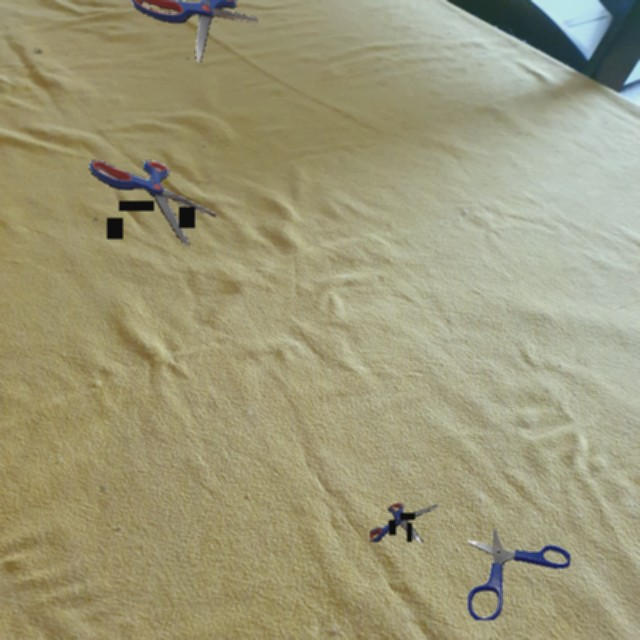scissors: (89, 160, 216, 245), (468, 528, 570, 620), (130, 0, 258, 62), (370, 503, 438, 542)
